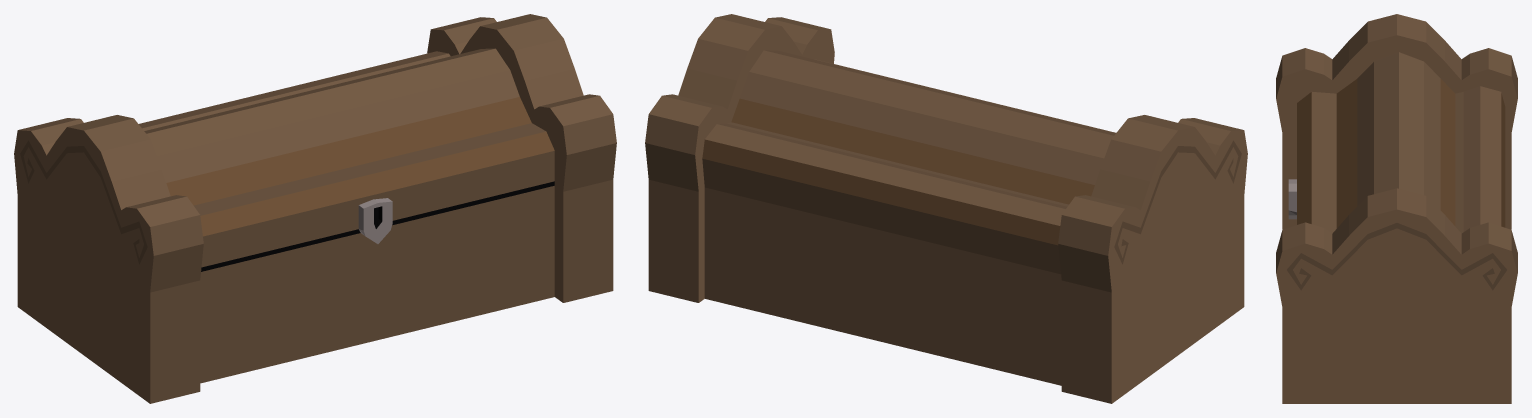
Rendered from treasure-chest-clues.gltf.
The picture shows the model from 3 angles, left to right: view 1: azimuth 30°, elevation 25°; view 2: azimuth 150°, elevation 25°; view 3: azimuth 270°, elevation 25°; orthographic projection. The views are drawn at different scales.
Size of the model in its own units: 222 by 103 by 116.
1 material, 1 textured.
